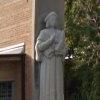Statue: (33, 7, 67, 92)
